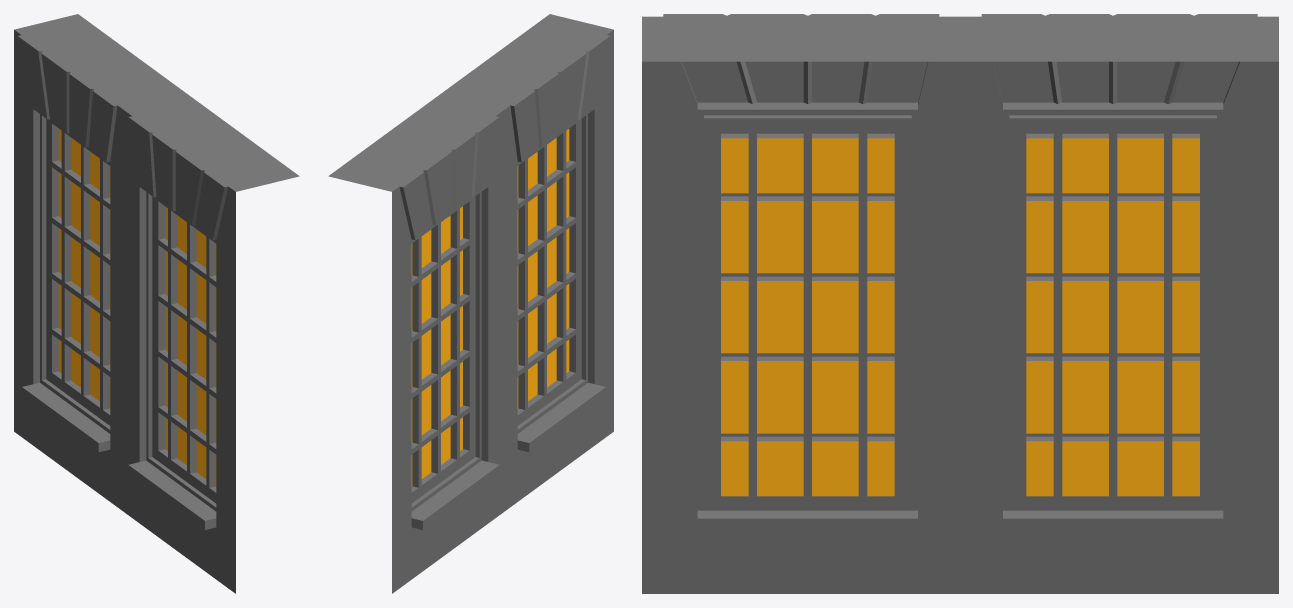
Rendered from O_Facade_Fenetre_Double_Fronton_Simple.fbx.
3 renders of one model, left to right at view 1: azimuth 30°, elevation 25°; view 2: azimuth 150°, elevation 25°; view 3: azimuth 270°, elevation 25°, orthographic. The views are drawn at different scales.
Parts seen in each view (by area): view 1: O_Facade_Fenetre_Double_Fronton_Simple; view 2: O_Facade_Fenetre_Double_Fronton_Simple; view 3: O_Facade_Fenetre_Double_Fronton_Simple.
Boxes of the visible parts, left/top/right/bottom form: O_Facade_Fenetre_Double_Fronton_Simple: left=14, top=14, right=299, bottom=593; O_Facade_Fenetre_Double_Fronton_Simple: left=328, top=14, right=613, bottom=593; O_Facade_Fenetre_Double_Fronton_Simple: left=642, top=14, right=1278, bottom=593.
Bounding box in the file's own units: 0.5898 × 3 × 3.
